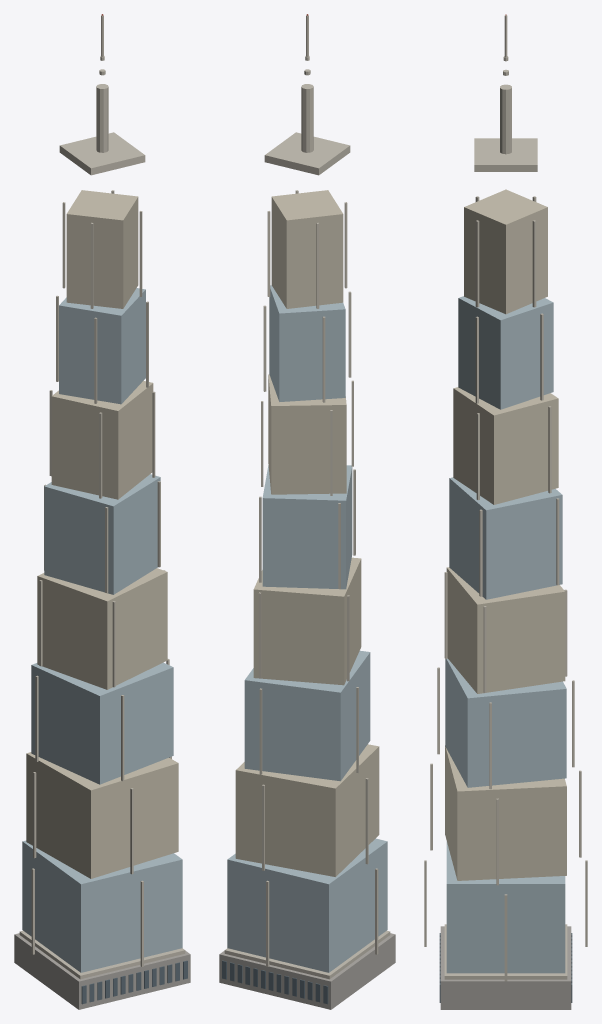
Rendered from wtc.glb.
3 renders of one model, left to right at view 1: azimuth 30°, elevation 25°; view 2: azimuth 150°, elevation 25°; view 3: azimuth 270°, elevation 25°, orthographic.
Parts seen in each view (by area): view 1: Mesh; view 2: Mesh; view 3: Mesh.
Part boxes in pixels (x1,y1,x2,y2): Mesh: (14, 14, 190, 1009); Mesh: (219, 14, 395, 1009); Mesh: (424, 14, 587, 1009).
Bounding box in the file's own units: 82.8 × 541 × 82.8.
